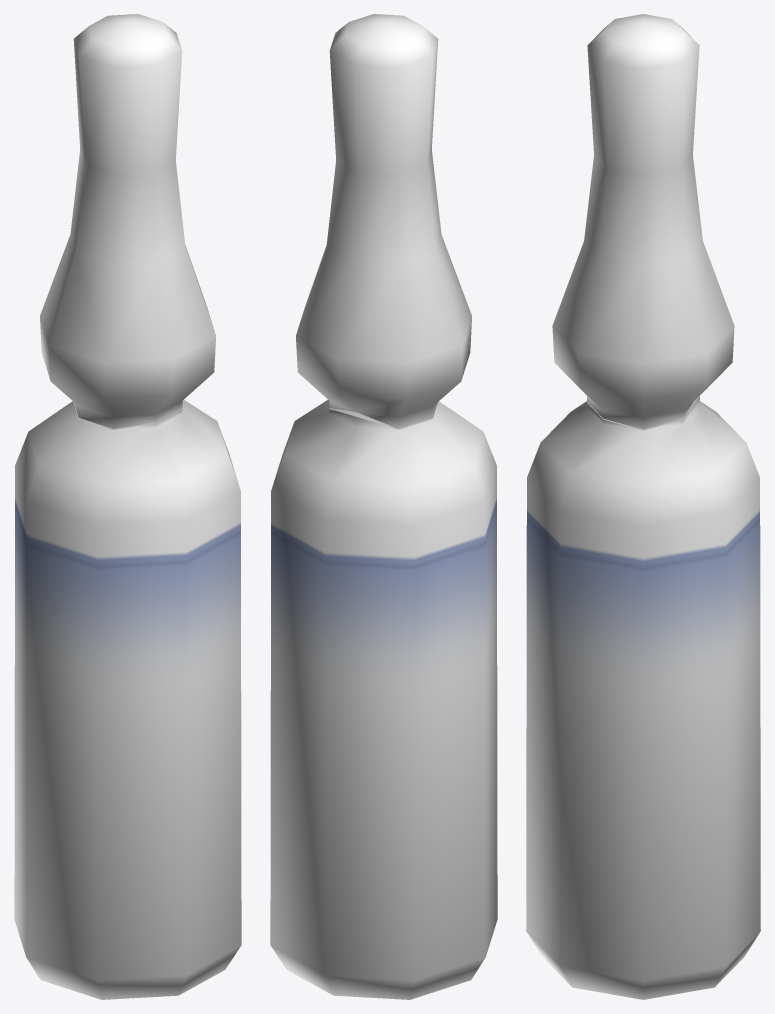
The model's file is Ampoule_02_B.fbx.
3 views of the same model, side by side, from view 1: azimuth 30°, elevation 25°; view 2: azimuth 150°, elevation 25°; view 3: azimuth 270°, elevation 25° (orthographic).
Visible parts, largest first — view 1: ampoule_02_B, ampoule_02_B_top; view 2: ampoule_02_B, ampoule_02_B_top; view 3: ampoule_02_B, ampoule_02_B_top.
Part boxes in pixels (x1=…): ampoule_02_B: x1=14, y1=400, x2=241, y2=999; ampoule_02_B_top: x1=40, y1=14, x2=215, y2=428; ampoule_02_B: x1=270, y1=400, x2=497, y2=999; ampoule_02_B_top: x1=296, y1=14, x2=471, y2=428; ampoule_02_B: x1=526, y1=395, x2=760, y2=999; ampoule_02_B_top: x1=552, y1=14, x2=734, y2=429.
Size of the model in its own units: 0.1557 by 0.6852 by 0.1557.
